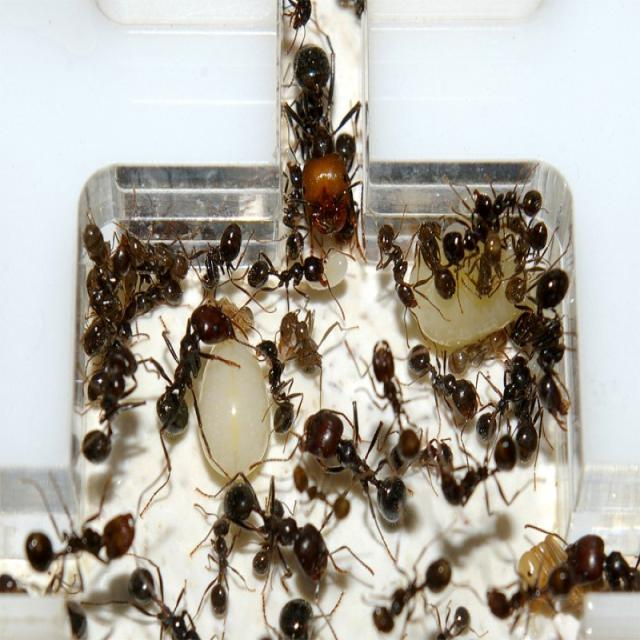ants: (295, 399, 420, 542), (291, 38, 358, 248), (225, 483, 342, 599), (153, 296, 242, 447), (20, 505, 151, 586), (75, 340, 144, 470), (72, 230, 140, 352), (361, 337, 422, 462), (551, 519, 636, 603), (406, 339, 483, 428), (248, 330, 302, 446), (403, 213, 458, 314), (286, 453, 355, 528), (190, 220, 246, 309), (436, 188, 501, 262), (371, 221, 419, 316), (199, 502, 239, 608), (275, 308, 332, 382), (248, 251, 336, 296)
